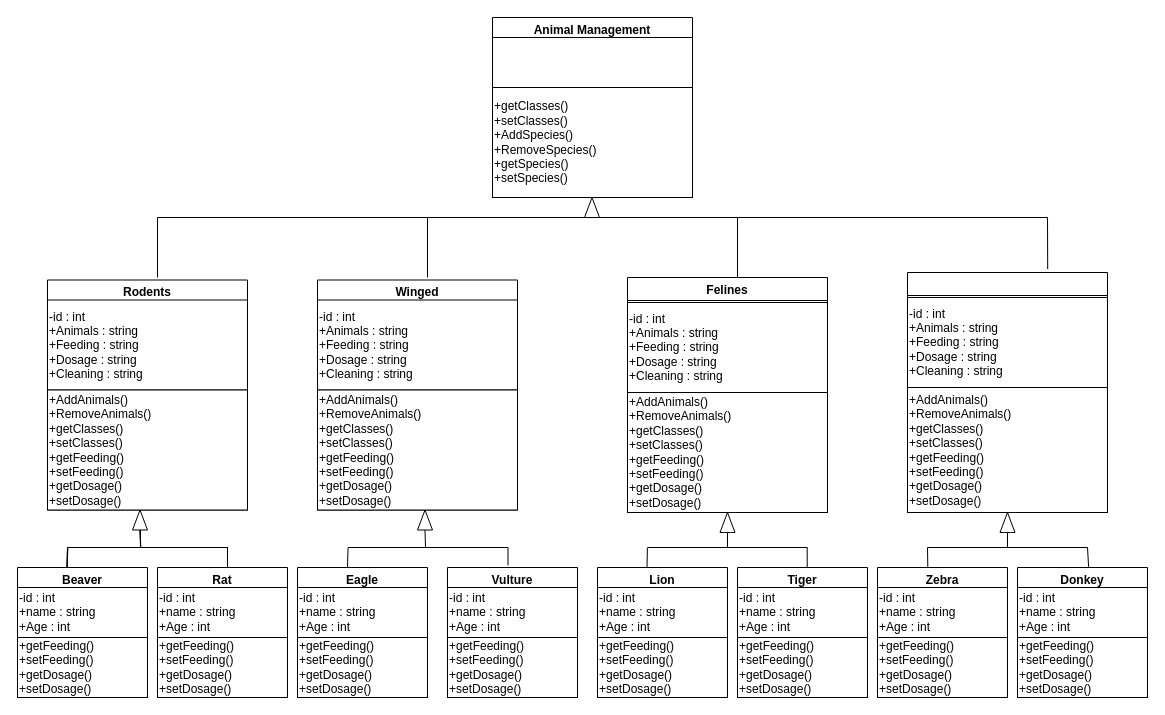
Image size: 1165x715. Some labels were removed from this diagram. Each missing label, with the box of its shape:
-id : int +Classes : string +Species : string: (492, 36, 692, 88)
Horses: (906, 272, 1108, 512)
